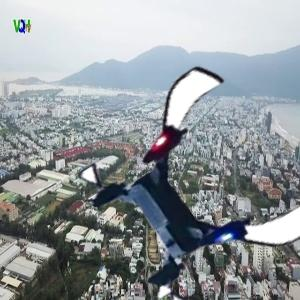drone: (89, 85, 298, 294)
